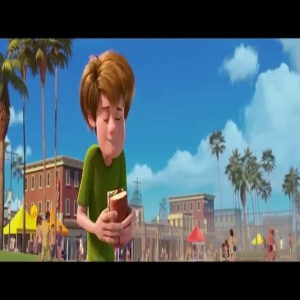Shagy: (73, 50, 150, 164)
